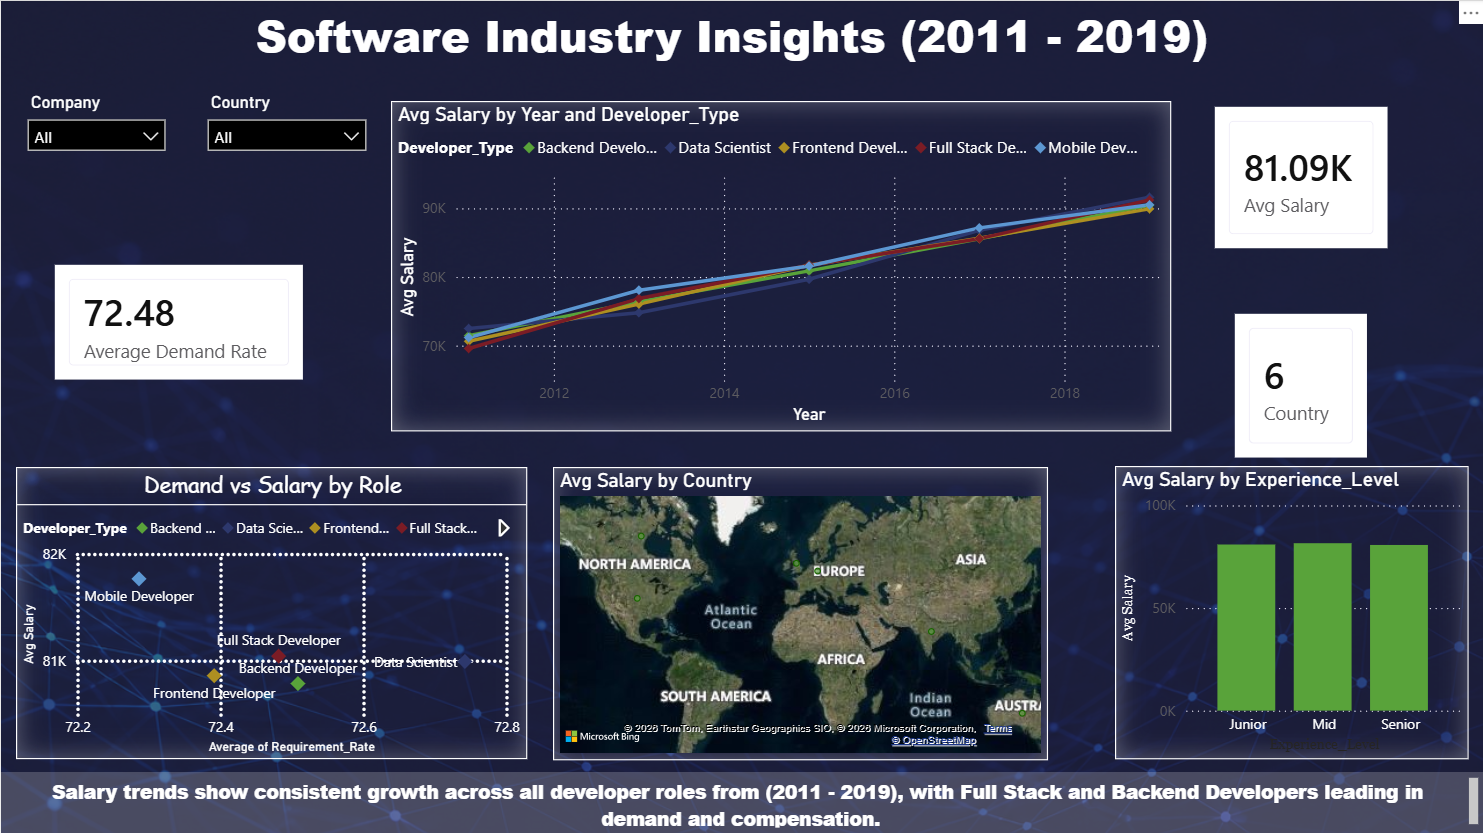

The dashboard page shown, as its layout file describes it:
{"tool":"powerbi","page":{"name":"2011 - 2019","canvas":[1280,720],"ordinal":0},"visuals":[{"type":"image","box":[0,1,1280,719],"z":0},{"type":"slicer","fields":{"Values":["developer_survey_large.Company"]},"box":[14,76,139,61],"z":1000},{"type":"slicer","fields":{"Values":["developer_survey_large.Country"]},"box":[169,76,157,62],"z":2000},{"type":"lineChart","fields":{"Category":["developer_survey_large.Year"],"Y":["developer_survey_large.Avg Salary"],"Series":["developer_survey_large.Developer_Type"]},"box":[337.2,88.4,673.3,284.9],"z":3000},{"type":"map","title":"Avg Salary by Country","fields":{"Category":["developer_survey_large.Country"]},"box":[477,404,427,253],"z":4000},{"type":"cardVisual","title":"Avg Salary USD ","fields":{"Data":["developer_survey_large.Avg Salary"]},"box":[1043,88.4,159.3,132.6],"z":5000},{"type":"cardVisual","fields":{"Data":["Avg(developer_survey_large.Requirement_Rate)"]},"box":[41.9,224.4,224.4,109.3],"z":6000},{"type":"cardVisual","title":"Total Countries","fields":{"Data":["Count(developer_survey_large.Country)"]},"box":[1060.5,266.3,124.4,134.9],"z":7000},{"type":"columnChart","fields":{"Category":["developer_survey_large.Experience_Level"],"Y":["developer_survey_large.Avg Salary"]},"box":[962,403,305,253],"z":8000},{"type":"textbox","box":[211,0,840,69],"z":9000},{"type":"scatterChart","title":"Demand vs Salary by Role","fields":{"X":["Avg(developer_survey_large.Requirement_Rate)"],"Y":["developer_survey_large.Avg Salary"],"Series":["developer_survey_large.Developer_Type"]},"box":[14,404,441,252],"z":10000},{"type":"textbox","box":[0,667,1280,53],"z":11000}]}

Visuals, with their boxes in screenshot pixels (x1, y1, x2, y2), scaled from the page's 1280x720 canvas onto the 1483x833 screenshot:
image: 0:1:1482:832
slicer - developer_survey_large.Company: 16:88:177:159
slicer - developer_survey_large.Country: 196:88:378:160
lineChart - developer_survey_large.Year x developer_survey_large.Avg Salary: 391:102:1171:432
"Avg Salary by Country" map: 553:467:1047:760
"Avg Salary USD " cardVisual: 1208:102:1393:256
cardVisual - Avg(developer_survey_large.Requirement_Rate): 49:260:309:386
"Total Countries" cardVisual: 1229:308:1373:464
columnChart - developer_survey_large.Experience_Level x developer_survey_large.Avg Salary: 1115:466:1468:759
textbox: 244:0:1218:80
"Demand vs Salary by Role" scatterChart: 16:467:527:759
textbox: 0:772:1482:832
